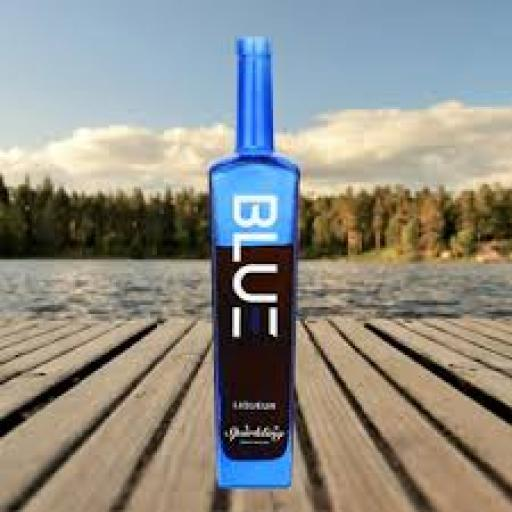blue-bottle: (209, 36, 298, 485)
